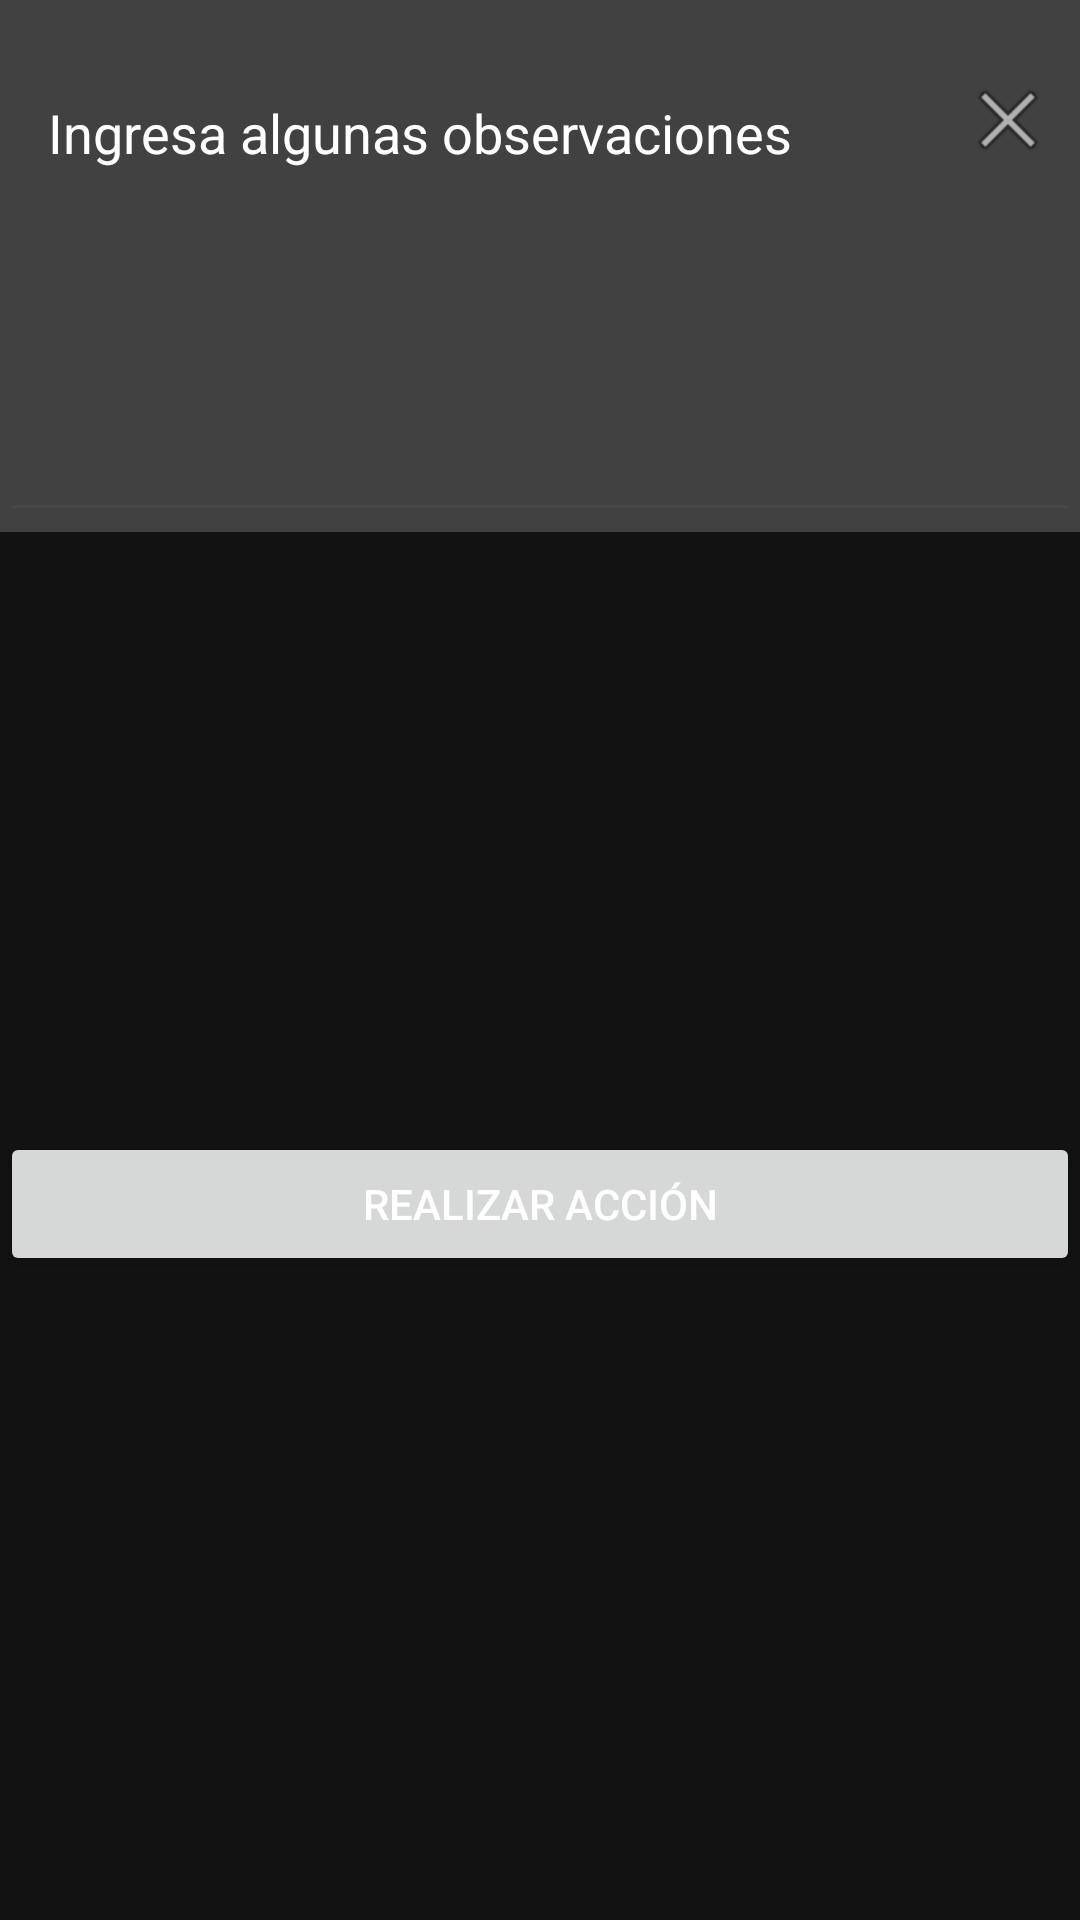

Where icons sit on this 1080px x 1920px app screen, as (x1, y1, x2, y2):
close clear cancel: (980, 92, 1036, 148)
